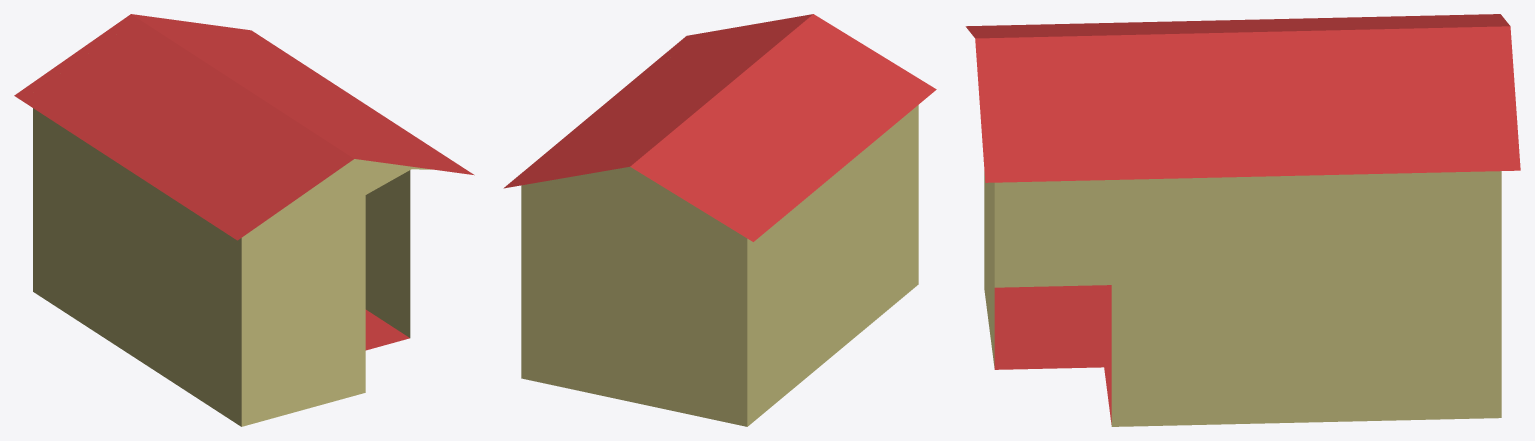
3 views of the same model, side by side, from view 1: azimuth 30°, elevation 25°; view 2: azimuth 150°, elevation 25°; view 3: azimuth 270°, elevation 25° (orthographic). The views are drawn at different scales.
Bounding box in the file's own units: 11.11 × 15.44 × 9.8.
